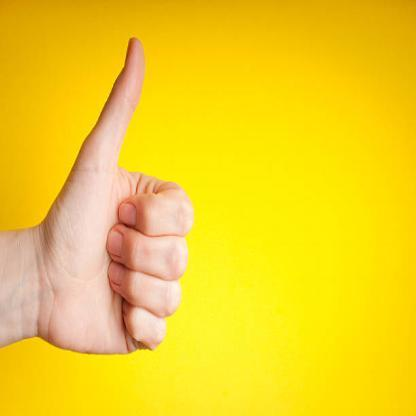thumb_up: (41, 32, 194, 360)
